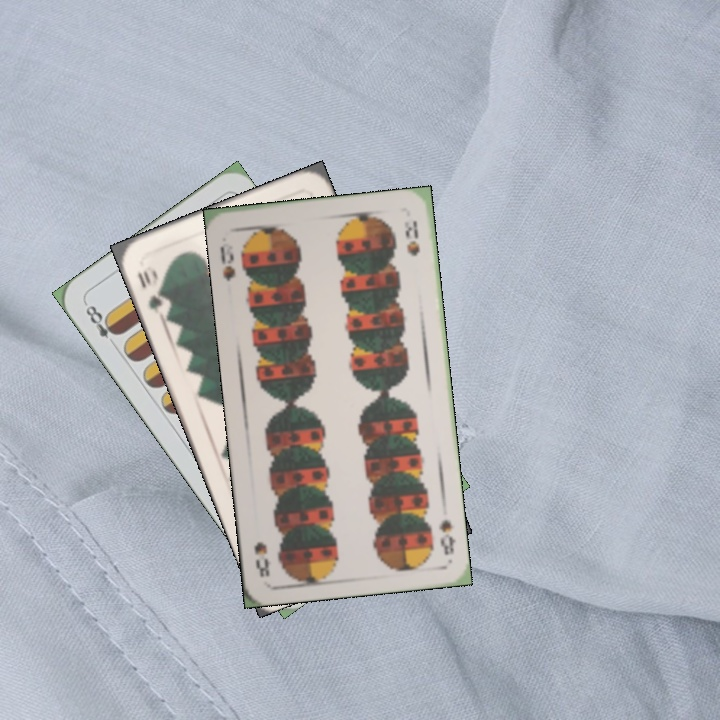E8: (81, 299, 122, 342)
G10: (133, 266, 169, 317)
S8: (216, 238, 238, 284), (435, 515, 458, 558)
